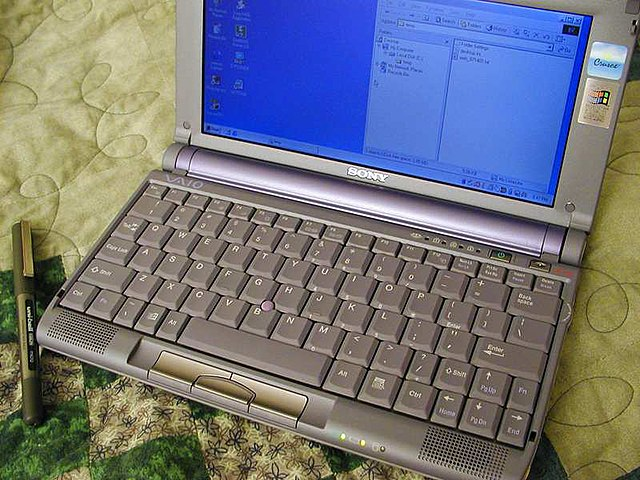laptop: (40, 1, 590, 479)
